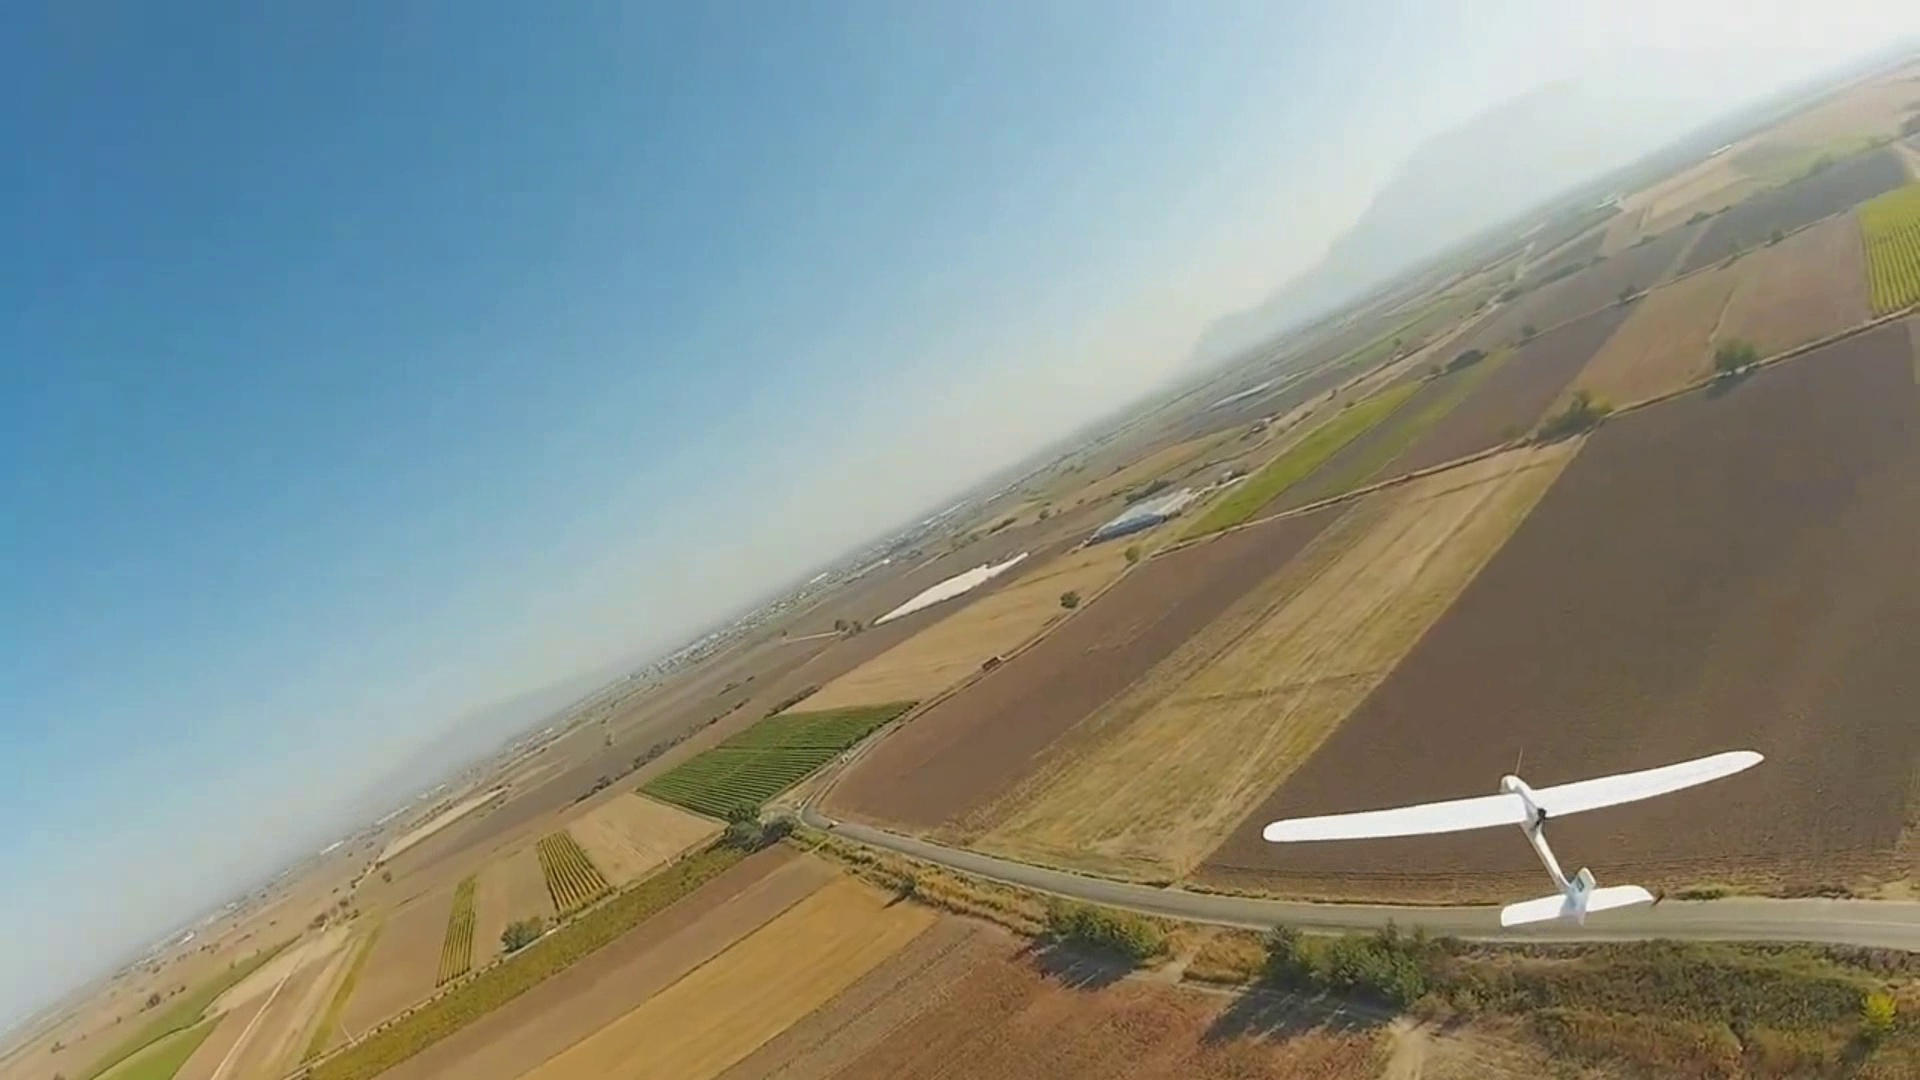airplane: (8, 53, 1907, 967), (1265, 745, 1767, 928)
